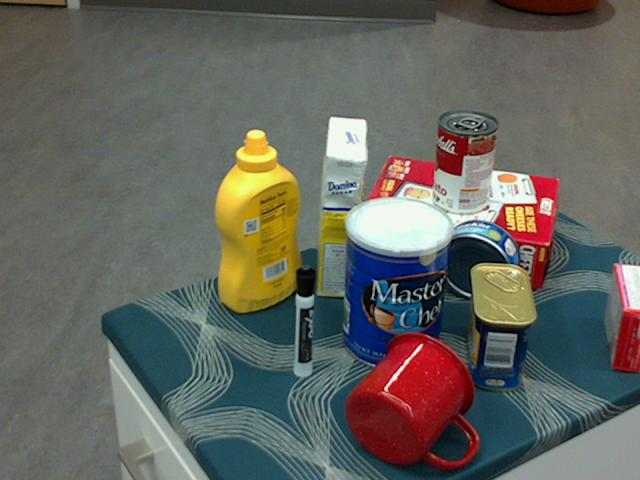cracker_box: (357, 158, 556, 286)
gelatin_box: (603, 264, 639, 373)
large_marker: (291, 264, 313, 379)
master_chef_can: (342, 196, 455, 371)
mug: (345, 331, 477, 469)
mustard_bottle: (213, 130, 301, 313)
potted_meat_can: (465, 263, 538, 391)
sugar_box: (315, 117, 366, 300)
tomato_soup_can: (432, 111, 498, 216)
tuna_fish_can: (438, 219, 520, 299)
